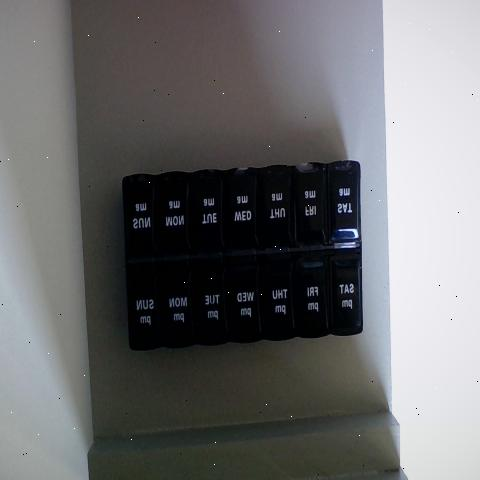FRI-am: (291, 164, 323, 247)
FRI-pm: (296, 254, 327, 334)
MON-am: (156, 172, 190, 253)
MON-pm: (160, 262, 196, 346)
PillBox: (105, 128, 374, 366)
SAT-am: (324, 164, 359, 245)
SAT-pm: (328, 252, 362, 335)
SUN-am: (123, 177, 155, 255)
SUN-pm: (128, 262, 160, 348)
THU-am: (257, 163, 290, 245)
THU-pm: (263, 250, 297, 336)
TUE-am: (192, 166, 223, 252)
TUE-pm: (197, 262, 229, 342)
WED-am: (225, 167, 256, 249)
WED-pm: (228, 257, 264, 335)
